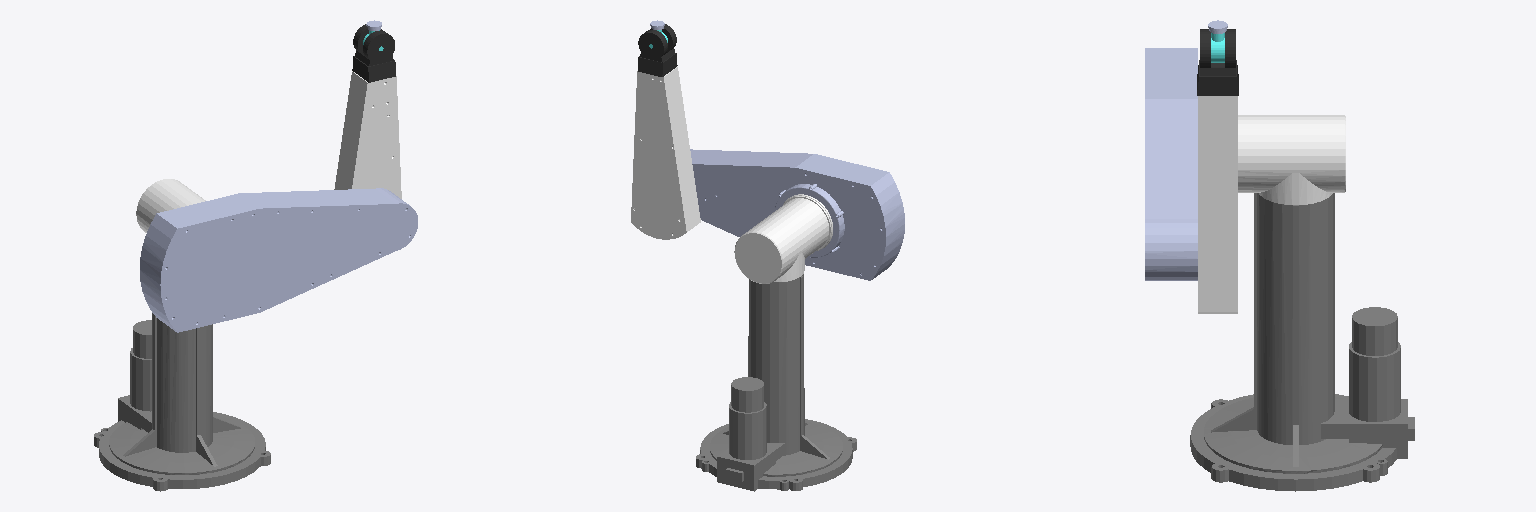
URDF robot description (Puma560Assembly.SLDASM):
<?xml version="1.0" encoding="utf-8"?>
<!-- This URDF was automatically created by SolidWorks to URDF Exporter! Originally created by [author] ([email redacted]) 
     Commit Version: 1.6.0-4-g7f85cfe  Build Version: 1.6.7995.38578
     For more information, please see http://wiki.ros.org/sw_urdf_exporter -->
<robot
  name="Puma560Assembly.SLDASM">
  <link
    name="Base">
    <inertial>
      <origin
        xyz="-9.5375675712789E-11 0.0219617122304017 -0.431053573905224"
        rpy="0 0 0" />
      <mass
        value="15.7867334753273" />
      <inertia
        ixx="0.550242340599426"
        ixy="-2.86297347564858E-11"
        ixz="-1.67434187689506E-10"
        iyy="0.504236340051114"
        iyz="0.0221623464429095"
        izz="0.160712793493662" />
    </inertial>
    <visual>
      <origin
        xyz="0 0 0"
        rpy="0 0 0" />
      <geometry>
        <mesh
          filename="package://Puma560Assembly.SLDASM/meshes/Base.STL" />
      </geometry>
      <material
        name="">
        <color
          rgba="0.556862745098039 0.556862745098039 0.556862745098039 1" />
      </material>
    </visual>
    <collision>
      <origin
        xyz="0 0 0"
        rpy="0 0 0" />
      <geometry>
        <mesh
          filename="package://Puma560Assembly.SLDASM/meshes/Base.STL" />
      </geometry>
    </collision>
  </link>
  <link
    name="Link1">
    <inertial>
      <origin
        xyz="1.41675393793207E-07 -0.0324151221357329 -0.00257923883569677"
        rpy="0 0 0" />
      <mass
        value="4.79584398604334" />
      <inertia
        ixx="0.0336188639050921"
        ixy="1.31362539690621E-07"
        ixz="2.43082619989805E-07"
        iyy="0.0143343837900718"
        iyz="0.000401215452453475"
        izz="0.0334525563049509" />
    </inertial>
    <visual>
      <origin
        xyz="0 0 0"
        rpy="0 0 0" />
      <geometry>
        <mesh
          filename="package://Puma560Assembly.SLDASM/meshes/Link1.STL" />
      </geometry>
      <material
        name="">
        <color
          rgba="1 1 1 1" />
      </material>
    </visual>
    <collision>
      <origin
        xyz="0 0 0"
        rpy="0 0 0" />
      <geometry>
        <mesh
          filename="package://Puma560Assembly.SLDASM/meshes/Link1.STL" />
      </geometry>
    </collision>
  </link>
  <joint
    name="Joint1"
    type="revolute">
    <origin
      xyz="0 0 0"
      rpy="0 0 0" />
    <parent
      link="Base" />
    <child
      link="Link1" />
    <axis
      xyz="0 0 1" />
    <limit
      lower="0"
      upper="0"
      effort="0"
      velocity="0" />
  </joint>
  <link
    name="Link2">
    <inertial>
      <origin
        xyz="0.0827365245243107 -4.67758691494735E-05 0.235790389997105"
        rpy="0 0 0" />
      <mass
        value="16.8466089089569" />
      <inertia
        ixx="0.097229719277659"
        ixy="-7.88603972873542E-06"
        ixz="-0.00434746079027176"
        iyy="0.596573369371294"
        iyz="-4.83833598122861E-05"
        izz="0.659758111095017" />
    </inertial>
    <visual>
      <origin
        xyz="0 0 0"
        rpy="0 0 0" />
      <geometry>
        <mesh
          filename="package://Puma560Assembly.SLDASM/meshes/Link2.STL" />
      </geometry>
      <material
        name="">
        <color
          rgba="0.792156862745098 0.819607843137255 0.933333333333333 1" />
      </material>
    </visual>
    <collision>
      <origin
        xyz="0 0 0"
        rpy="0 0 0" />
      <geometry>
        <mesh
          filename="package://Puma560Assembly.SLDASM/meshes/Link2.STL" />
      </geometry>
    </collision>
  </link>
  <joint
    name="Joint2"
    type="revolute">
    <origin
      xyz="0 0 0"
      rpy="1.5707963267949 0 0" />
    <parent
      link="Link1" />
    <child
      link="Link2" />
    <axis
      xyz="0 0 1" />
    <limit
      lower="0"
      upper="0"
      effort="0"
      velocity="0" />
  </joint>
  <link
    name="Link3">
    <inertial>
      <origin
        xyz="0.0052297341910818 0.0888288362742098 1.56107505250302E-06"
        rpy="0 0 0" />
      <mass
        value="4.60608344546843" />
      <inertia
        ixx="0.0826176311087695"
        ixy="-0.00434000430668176"
        ixz="3.90894550853629E-07"
        iyy="0.00945164152646254"
        iyz="2.15685172169216E-06"
        izz="0.0876132839292218" />
    </inertial>
    <visual>
      <origin
        xyz="0 0 0"
        rpy="0 0 0" />
      <geometry>
        <mesh
          filename="package://Puma560Assembly.SLDASM/meshes/Link3.STL" />
      </geometry>
      <material
        name="">
        <color
          rgba="1 1 1 1" />
      </material>
    </visual>
    <collision>
      <origin
        xyz="0 0 0"
        rpy="0 0 0" />
      <geometry>
        <mesh
          filename="package://Puma560Assembly.SLDASM/meshes/Link3.STL" />
      </geometry>
    </collision>
  </link>
  <joint
    name="Joint3"
    type="revolute">
    <origin
      xyz="0.4318 0 0.15005"
      rpy="0 0 0" />
    <parent
      link="Link2" />
    <child
      link="Link3" />
    <axis
      xyz="0 0 1" />
    <limit
      lower="0"
      upper="0"
      effort="0"
      velocity="0" />
  </joint>
  <link
    name="Link4">
    <inertial>
      <origin
        xyz="6.7156E-06 0 -0.032374"
        rpy="0 0 0" />
      <mass
        value="0.46811" />
      <inertia
        ixx="0.00076421"
        ixy="-8.1525E-21"
        ixz="-9.5405E-09"
        iyy="0.00072857"
        iyz="-1.0289E-19"
        izz="0.00046373" />
    </inertial>
    <visual>
      <origin
        xyz="0 0 0"
        rpy="0 0 0" />
      <geometry>
        <mesh
          filename="package://Puma560Assembly.SLDASM/meshes/Link4.STL" />
      </geometry>
      <material
        name="">
        <color
          rgba="0.25098 0.25098 0.25098 1" />
      </material>
    </visual>
    <collision>
      <origin
        xyz="0 0 0"
        rpy="0 0 0" />
      <geometry>
        <mesh
          filename="package://Puma560Assembly.SLDASM/meshes/Link4.STL" />
      </geometry>
    </collision>
  </link>
  <joint
    name="Joint4"
    type="revolute">
    <origin
      xyz="0.0203 0.4318 0"
      rpy="-1.5708 0 0" />
    <parent
      link="Link3" />
    <child
      link="Link4" />
    <axis
      xyz="0 0 1" />
    <limit
      lower="0"
      upper="0"
      effort="0"
      velocity="0" />
  </joint>
  <link
    name="Link5">
    <inertial>
      <origin
        xyz="-9.12189157542542E-10 0.00407444437284865 2.77555756156289E-17"
        rpy="0 0 0" />
      <mass
        value="0.0650895244227733" />
      <inertia
        ixx="2.24205168785061E-05"
        ixy="3.6459481165397E-12"
        ixz="1.43254145732281E-11"
        iyy="1.50260384137487E-05"
        iyz="-7.11520811693678E-22"
        izz="2.48021549683133E-05" />
    </inertial>
    <visual>
      <origin
        xyz="0 0 0"
        rpy="0 0 0" />
      <geometry>
        <mesh
          filename="package://Puma560Assembly.SLDASM/meshes/Link5.STL" />
      </geometry>
      <material
        name="">
        <color
          rgba="0.435294117647059 1 0.988235294117647 1" />
      </material>
    </visual>
    <collision>
      <origin
        xyz="0 0 0"
        rpy="0 0 0" />
      <geometry>
        <mesh
          filename="package://Puma560Assembly.SLDASM/meshes/Link5.STL" />
      </geometry>
    </collision>
  </link>
  <joint
    name="Joint5"
    type="revolute">
    <origin
      xyz="0 0 0"
      rpy="1.5708 0 0" />
    <parent
      link="Link4" />
    <child
      link="Link5" />
    <axis
      xyz="0 0 -1" />
    <limit
      lower="0"
      upper="0"
      effort="0"
      velocity="0" />
  </joint>
  <link
    name="Link6">
    <inertial>
      <origin
        xyz="0 -1.1102E-16 0.047436"
        rpy="0 0 0" />
      <mass
        value="0.012317" />
      <inertia
        ixx="1.1379E-06"
        ixy="2.351E-38"
        ixz="4.7391E-23"
        iyy="1.1379E-06"
        iyz="2.1013E-22"
        izz="1.9402E-06" />
    </inertial>
    <visual>
      <origin
        xyz="0 0 0"
        rpy="0 0 0" />
      <geometry>
        <mesh
          filename="package://Puma560Assembly.SLDASM/meshes/Link6.STL" />
      </geometry>
      <material
        name="">
        <color
          rgba="0.79216 0.81961 0.93333 1" />
      </material>
    </visual>
    <collision>
      <origin
        xyz="0 0 0"
        rpy="0 0 0" />
      <geometry>
        <mesh
          filename="package://Puma560Assembly.SLDASM/meshes/Link6.STL" />
      </geometry>
    </collision>
  </link>
  <joint
    name="Joint6"
    type="revolute">
    <origin
      xyz="0 0 0"
      rpy="-1.5707963267949 0 0" />
    <parent
      link="Link5" />
    <child
      link="Link6" />
    <axis
      xyz="0 0 -1" />
    <limit
      lower="0"
      upper="0"
      effort="0"
      velocity="0" />
  </joint>
</robot>

--- Facts derived from the render (not from the file) ---
3 views of the same robot in one strip: view 1: azimuth 30°, elevation 25°; view 2: azimuth 150°, elevation 25°; view 3: azimuth 270°, elevation 25° (orthographic).
Robot: Puma560Assembly.SLDASM — 7 links, 6 joints (6 revolute); root link Base; default pose: every joint at zero.
Visible links, largest first — view 1: Link2, Base, Link3, Link4, Link1; view 2: Base, Link2, Link3, Link1, Link4; view 3: Base, Link2, Link1, Link3, Link4.
Link boxes in pixels (x1,y1,x2,y2): Link2: (140, 188, 417, 332); Base: (94, 313, 270, 491); Link3: (334, 71, 401, 198); Link4: (352, 24, 395, 82); Link1: (136, 179, 205, 232); Base: (696, 274, 856, 491); Link2: (690, 149, 904, 280); Link3: (631, 67, 700, 239); Link1: (734, 194, 832, 283); Link4: (638, 24, 677, 76); Base: (1190, 193, 1414, 491); Link2: (1145, 48, 1197, 280); Link1: (1238, 115, 1345, 204); Link3: (1198, 96, 1237, 313); Link4: (1197, 29, 1238, 95).
Bounding box of the posed robot: 0.741 × 0.5184 × 1.11 m (x, y, z).
Meshes: 7 distinct files referenced, 7 mesh visuals loaded (7 binary STL).